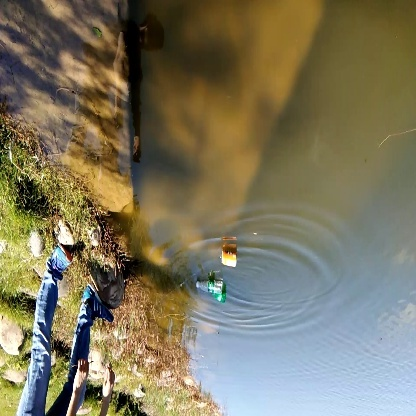bottle: (216, 242, 241, 270)
